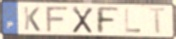F: (94, 6, 121, 35), (45, 6, 70, 34)
K: (23, 5, 42, 32)
L: (124, 8, 143, 34)
T: (147, 6, 169, 36)
X: (71, 6, 94, 35)
